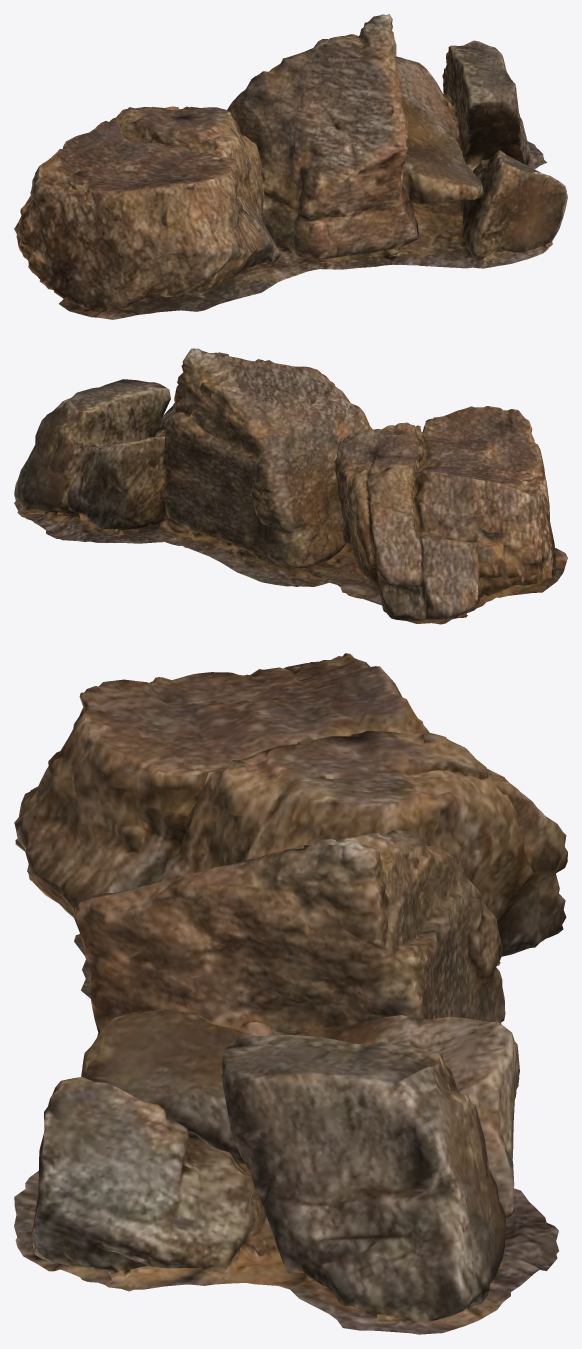
Rendered from namaqualand_boulder_02.glb.
3 views of the same model, one above another, from view 1: azimuth 30°, elevation 25°; view 2: azimuth 150°, elevation 25°; view 3: azimuth 270°, elevation 25° (orthographic). The views are drawn at different scales.
Parts seen in each view (by area): view 1: boulder_02; view 2: boulder_02; view 3: boulder_02.
Part boxes in pixels (box(x1,y1,x2,y2)): boulder_02: box(14, 14, 567, 319); boulder_02: box(14, 348, 567, 624); boulder_02: box(14, 653, 567, 1334).
Size of the model in its own units: 2.53 by 0.8826 by 1.23.
1 material, 1 textured.
